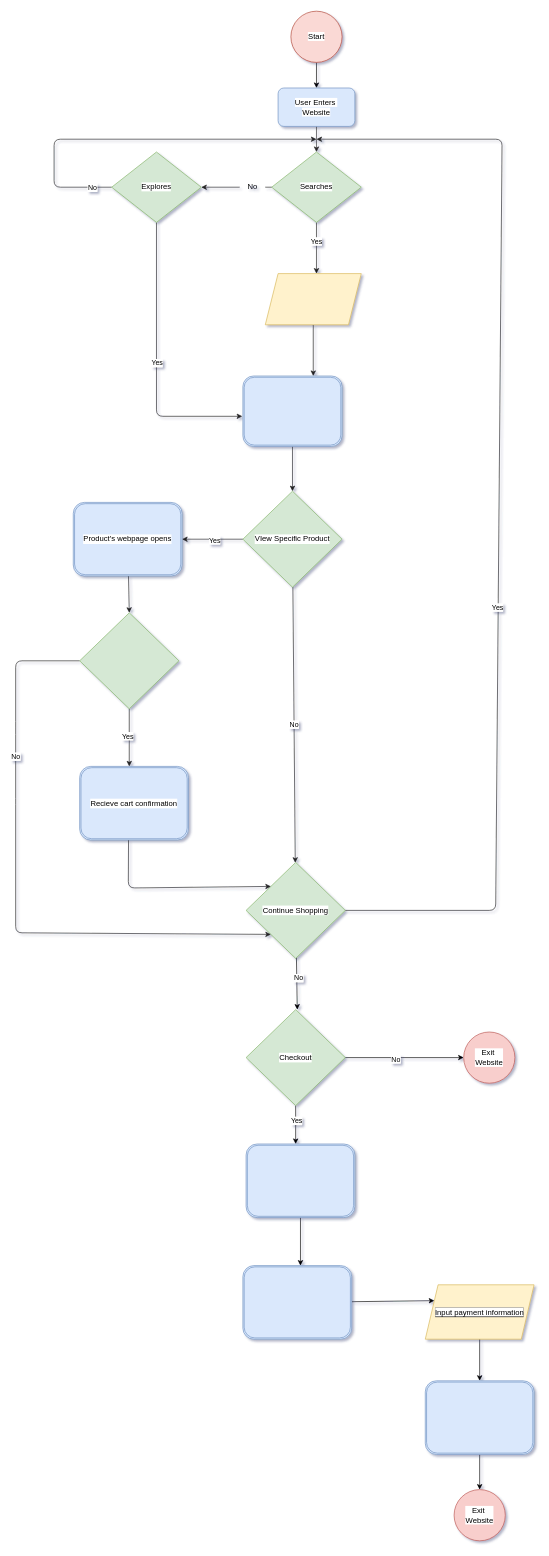
Some shapes in this 549 by 1556 pixel diagram are drawn without their labels. Each missing label, with the centre of its shape:
"Add item to cart" goes at (x=129, y=660).
"Input Website Search" goes at (x=313, y=299).
"User Begins Looking" goes at (x=292, y=410).
"View cart screen" goes at (x=300, y=1180).
"View confirmation screen and recieve confirmation email" goes at (x=479, y=1417).
"View payment screen" goes at (x=297, y=1302).
